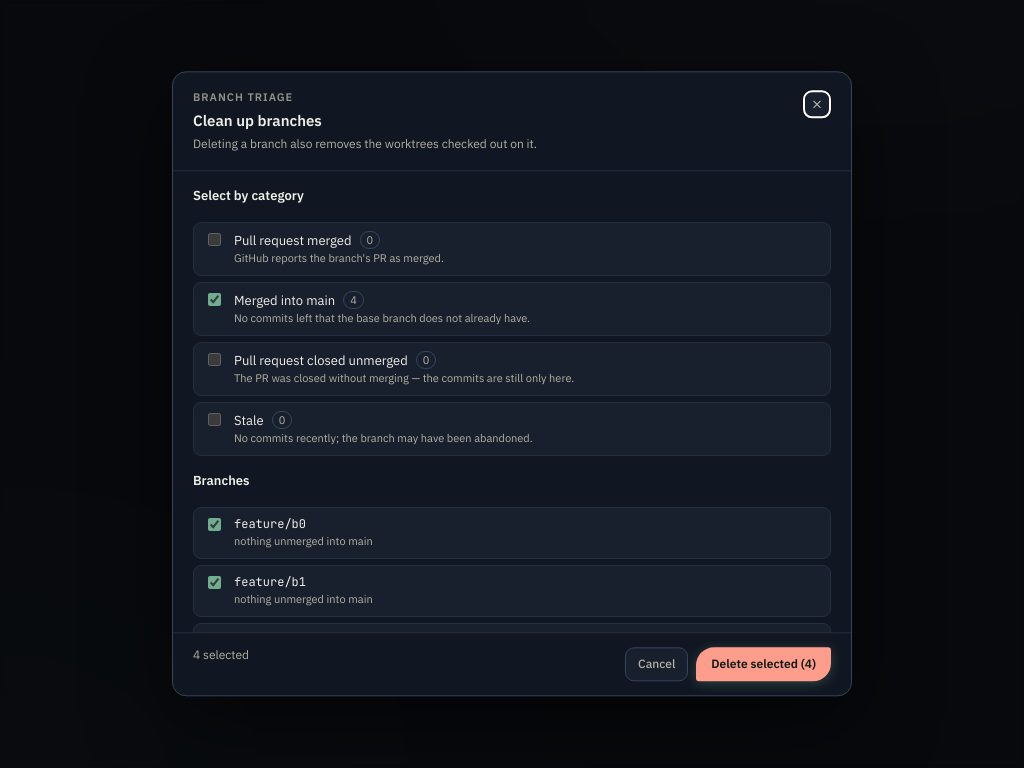
it: refusals are grouped by the reason key the server sent, with a count each
The image size is (1024, 768).
Step 1. Click the button "Delete selected (4)" → (764, 664), box 696,647 -> 831,682
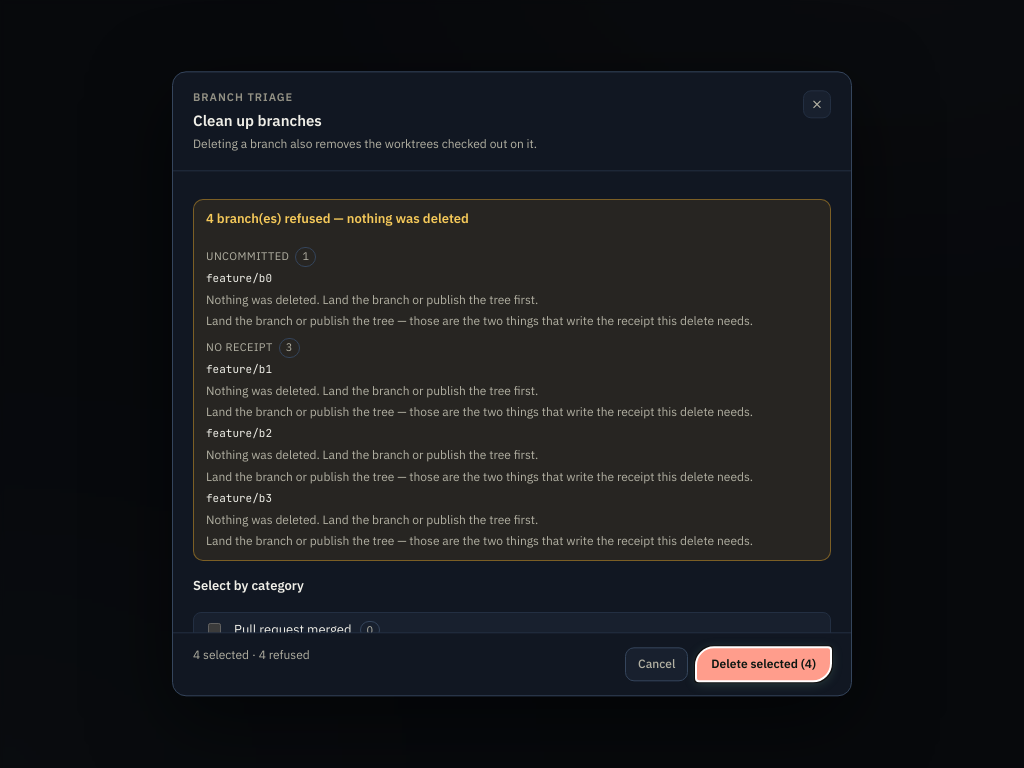
Now the message with class "branch-cleanup-refusals" is shown, box 193,200 -> 831,561
Now the message with class "branch-cleanup-refusals" shows "3", box 286,340 -> 293,354
Now the message with class "branch-cleanup-refusals" shows "1", box 302,249 -> 309,263
